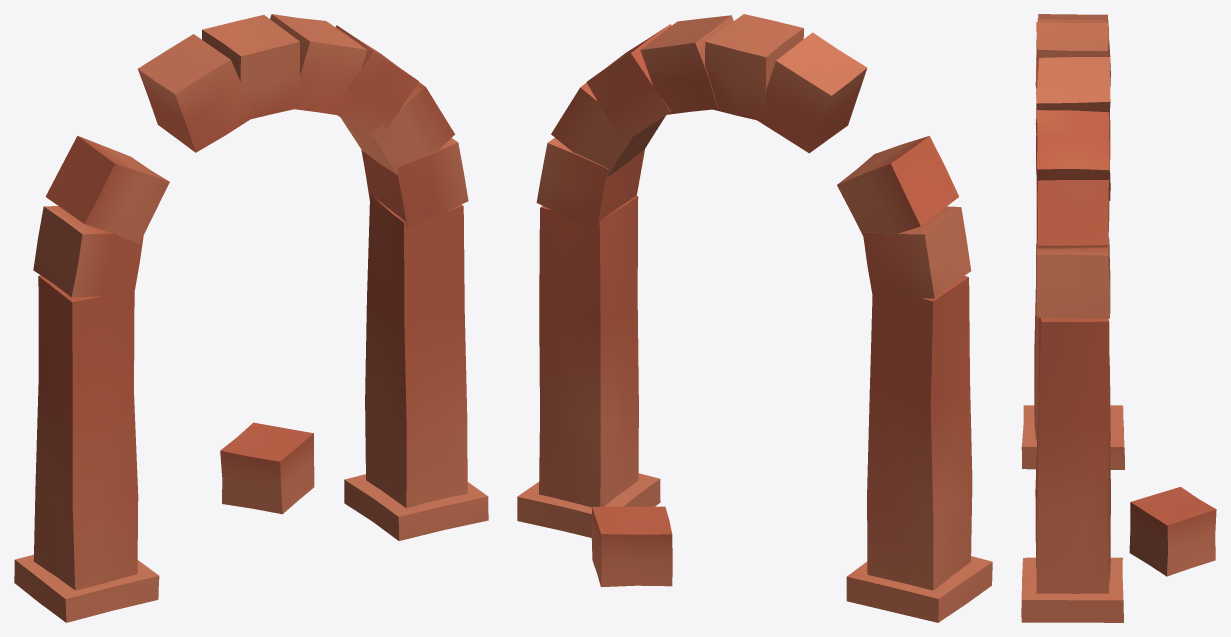
Rendered from arch.glb.
3 views of the same model, side by side, from view 1: azimuth 30°, elevation 25°; view 2: azimuth 150°, elevation 25°; view 3: azimuth 270°, elevation 25° (orthographic). The views are drawn at different scales.
Parts seen in each view (by area): view 1: ArcoPedra; view 2: ArcoPedra; view 3: ArcoPedra.
Part boxes in pixels (x1,y1,x2,y2): ArcoPedra: (14, 14, 488, 622); ArcoPedra: (517, 14, 992, 622); ArcoPedra: (1021, 14, 1216, 622).
Size of the model in its own units: 7.42 by 8.69 by 3.13.
